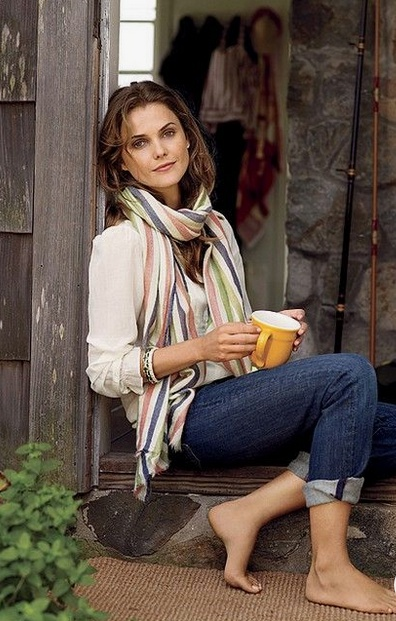mouth: (152, 161, 174, 173)
nose: (153, 149, 168, 159)
